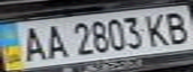0: (106, 16, 127, 52)
2: (69, 19, 93, 57)
3: (121, 13, 145, 51)
8: (87, 17, 112, 55)
A: (15, 24, 51, 63), (39, 21, 69, 61)
B: (160, 8, 193, 45)
K: (142, 10, 172, 47)
